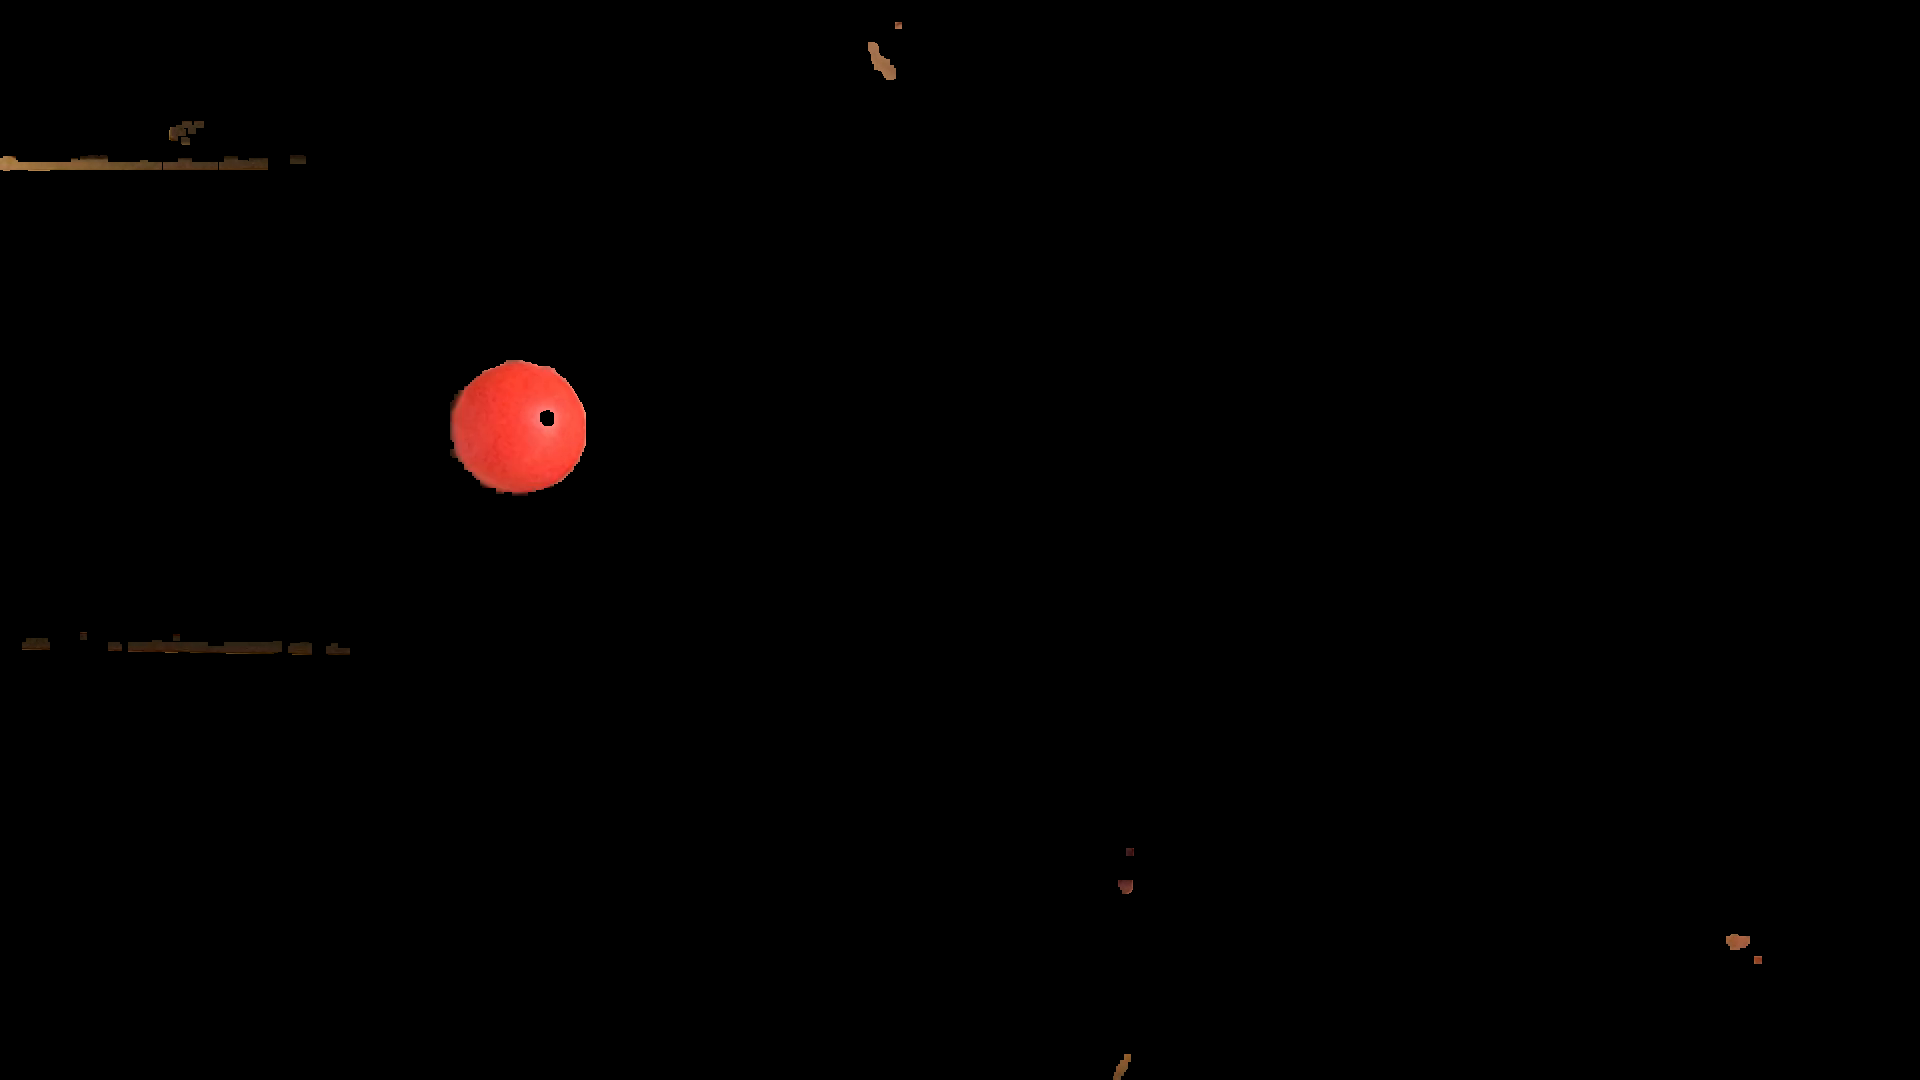Ball: (458, 363, 576, 491)
